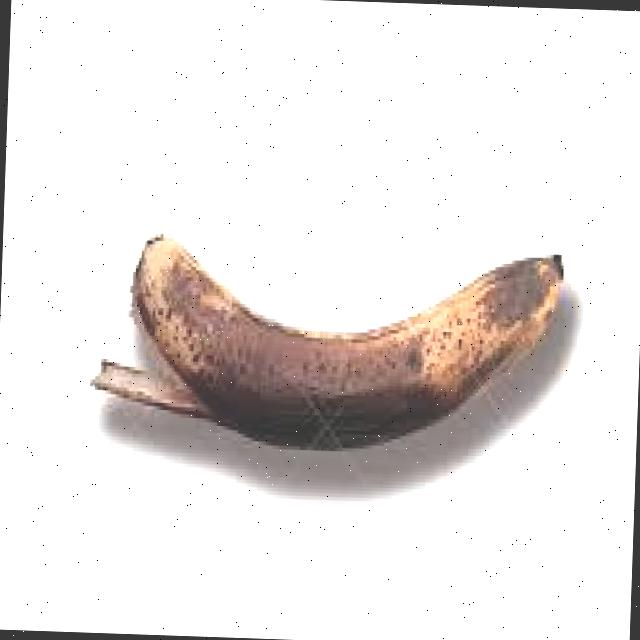Rotten: (64, 156, 582, 488)
